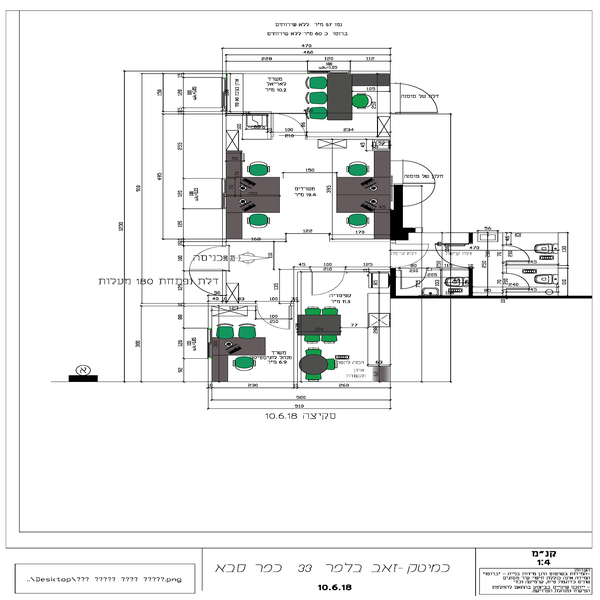door: (391, 77, 441, 114), (252, 298, 293, 334), (438, 235, 476, 270), (308, 267, 349, 295), (500, 238, 533, 267), (389, 241, 427, 264), (400, 264, 433, 290), (500, 275, 531, 294)
